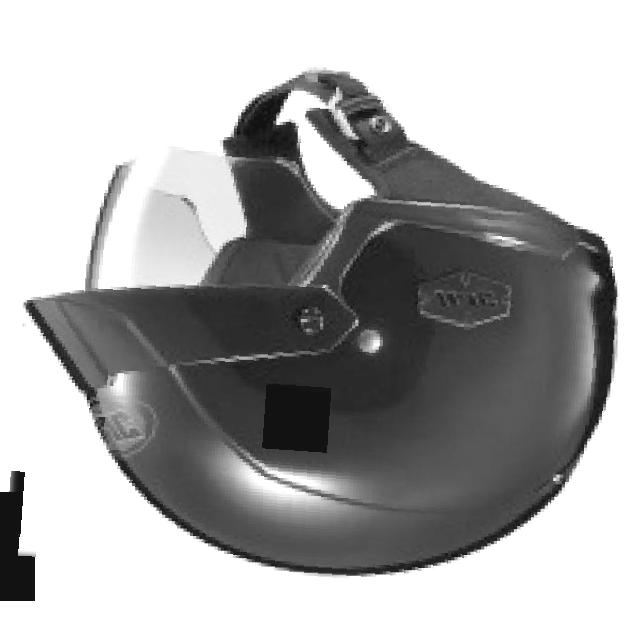helmet: (14, 60, 625, 586)
